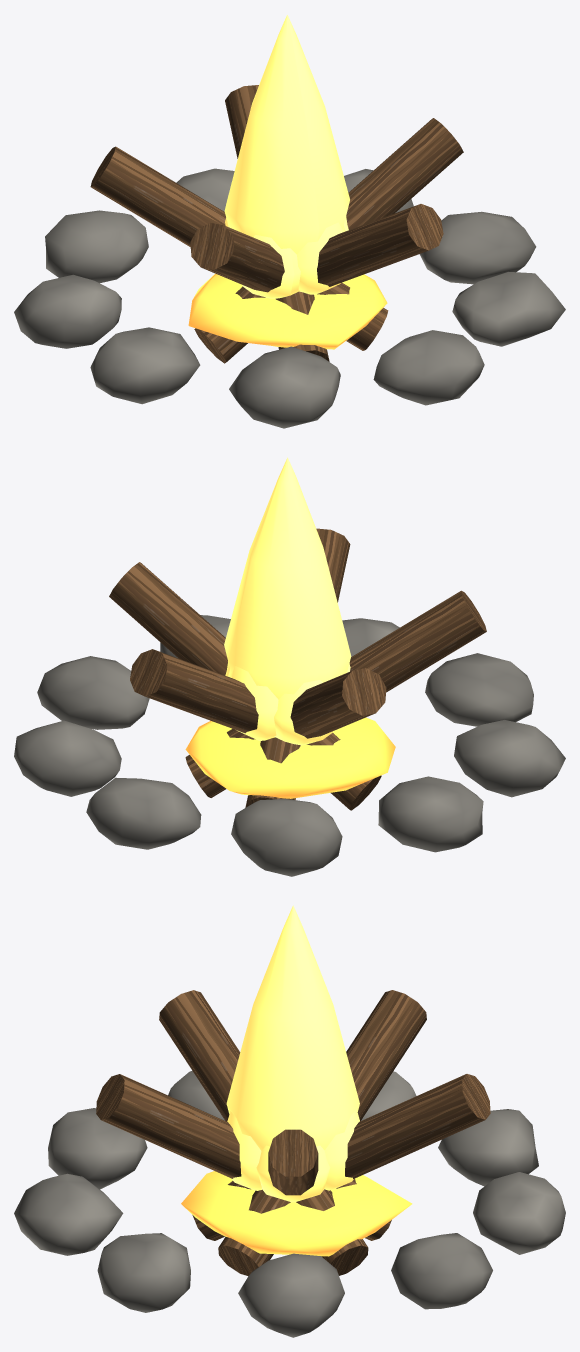
Rendered from prop_campfire.glb.
The picture shows the model from 3 angles, top to bottom: view 1: azimuth 30°, elevation 25°; view 2: azimuth 150°, elevation 25°; view 3: azimuth 270°, elevation 25°; orthographic projection. The views are drawn at different scales.
Visible parts, largest first — view 1: prop_campfire, prop_campfire_stone; view 2: prop_campfire, prop_campfire_stone; view 3: prop_campfire, prop_campfire_stone.
Part boxes in pixels (x1=…): prop_campfire: x1=90, y1=15, x2=463, y2=363; prop_campfire_stone: x1=14, y1=168, x2=565, y2=428; prop_campfire: x1=109, y1=457, x2=486, y2=810; prop_campfire_stone: x1=14, y1=615, x2=565, y2=876; prop_campfire: x1=96, y1=905, x2=490, y2=1275; prop_campfire_stone: x1=14, y1=1070, x2=565, y2=1337.
Bounding box in the file's own units: 1.35 × 0.9077 × 1.32.
Materials: 4 (2 with a texture image).
